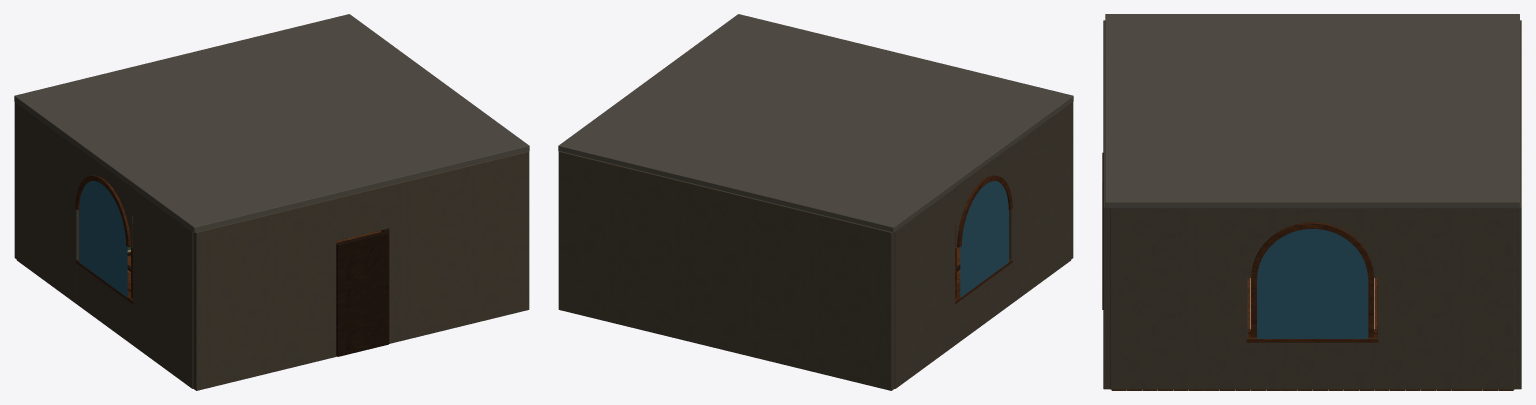
File: muhabbet_interior.glb
The picture shows the model from 3 angles, left to right: view 1: azimuth 30°, elevation 25°; view 2: azimuth 150°, elevation 25°; view 3: azimuth 270°, elevation 25°; orthographic projection. The views are drawn at different scales.
Visible parts, largest first — view 1: Interior_plaster, Interior_ceiling, Interior_darkwood, Interior_night, Interior_walnut; view 2: Interior_plaster, Interior_ceiling, Interior_night, Interior_walnut; view 3: Interior_ceiling, Interior_plaster, Interior_night, Interior_walnut, Interior_floor.
Part boxes in pixels (x1,y1,x2,y2): Interior_plaster: (14,102,529,390); Interior_ceiling: (14,14,529,232); Interior_darkwood: (127,231,388,356); Interior_night: (79,181,127,297); Interior_walnut: (75,175,385,304); Interior_plaster: (558,102,1073,390); Interior_ceiling: (558,14,1073,232); Interior_night: (960,181,1008,297); Interior_walnut: (955,175,1012,304); Interior_ceiling: (1105,14,1519,208); Interior_plaster: (1103,20,1521,389); Interior_night: (1257,229,1368,338); Interior_walnut: (1246,222,1379,342); Interior_floor: (1111,278,1513,390).
Size of the model in its own units: 7.3 by 3.42 by 6.78.
14 materials, 5 textured.
